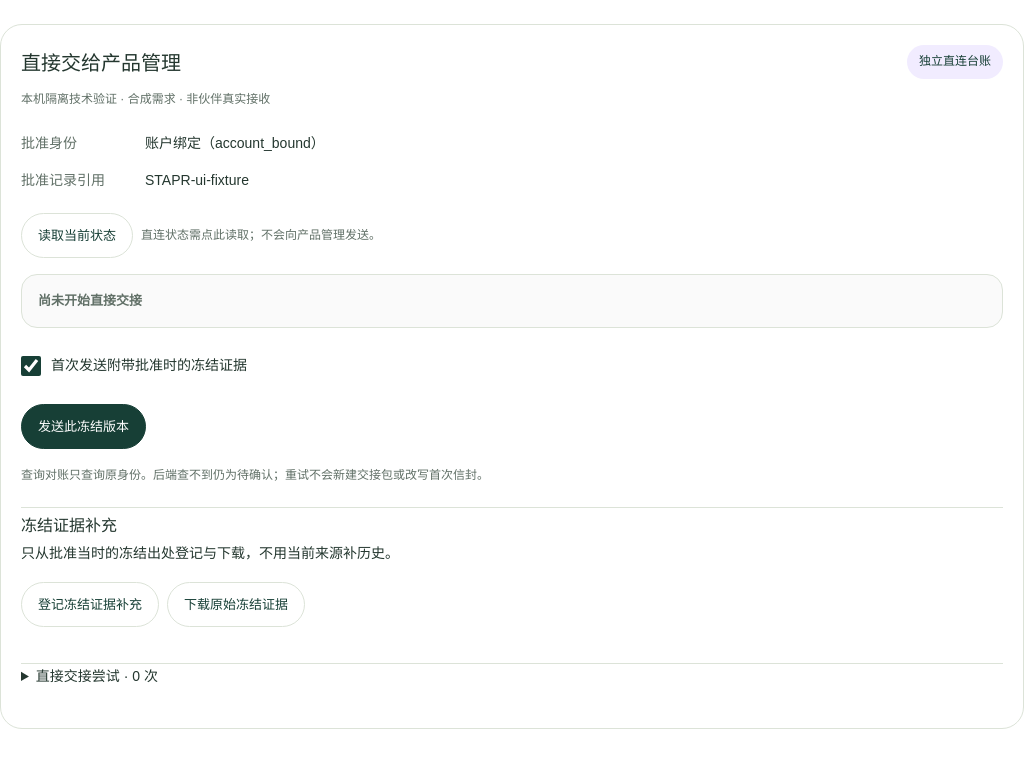
Test case: direct management panel › sends explicit original choice and only displays a fresh GET, ignoring the historical action snapshot
Expected: the text "尚未开始直接交接" is shown, left=38, top=293, right=142, bottom=308
Expected: the button "读取当前状态" is enabled, left=21, top=213, right=133, bottom=258
Click the checkbox: x=31, y=366 left=21, top=356, right=41, bottom=376
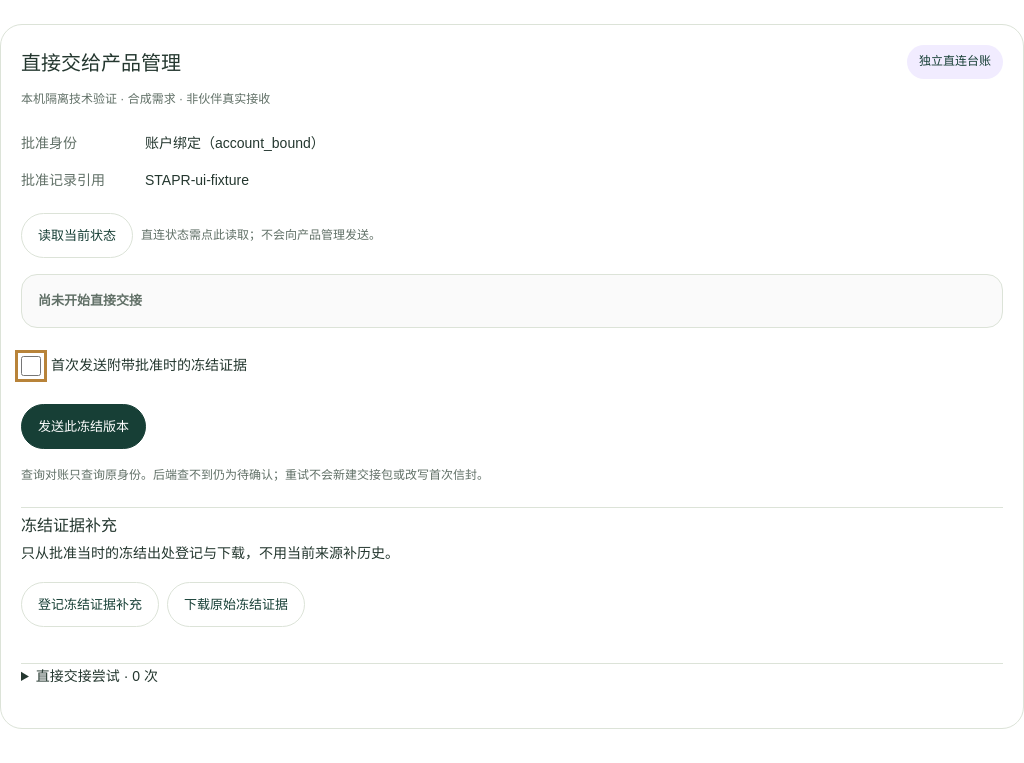
Click the button "发送此冻结版本": x=84, y=426 left=21, top=404, right=146, bottom=449
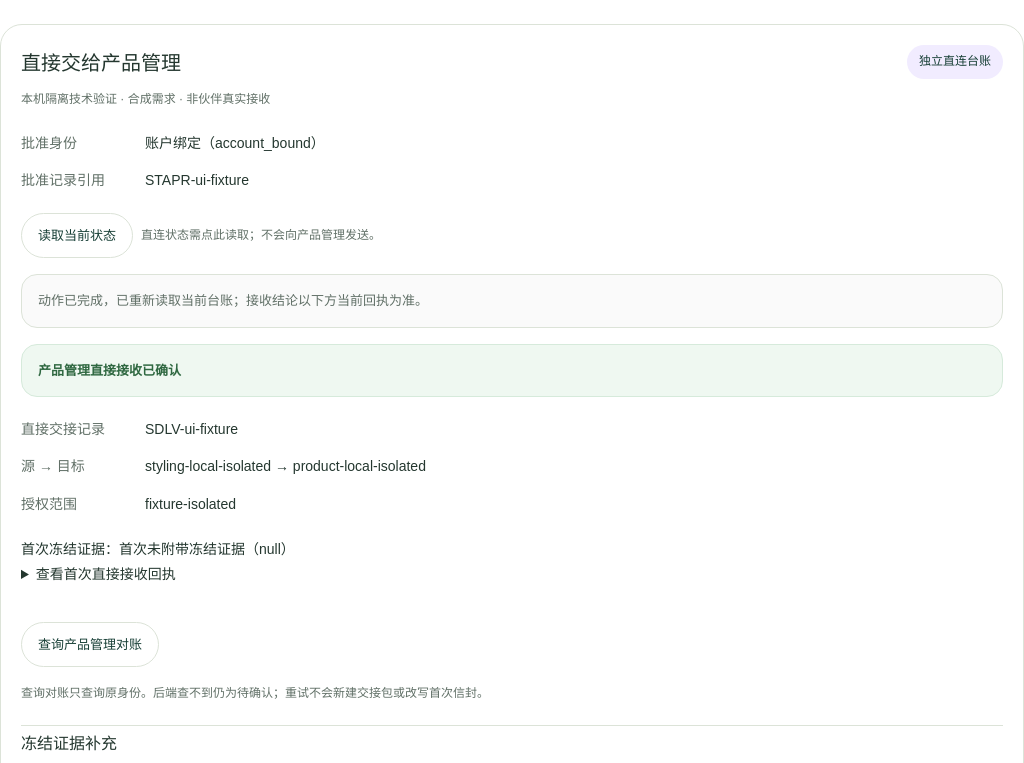
Expected: the button "读取当前状态" is enabled, left=21, top=213, right=133, bottom=258
Now the text "产品管理直接接收已确认" is shown, box left=38, top=363, right=181, bottom=378
Now the text "首次冻结证据：首次未附带冻结证据（null）" is shown, box left=21, top=541, right=295, bottom=557
